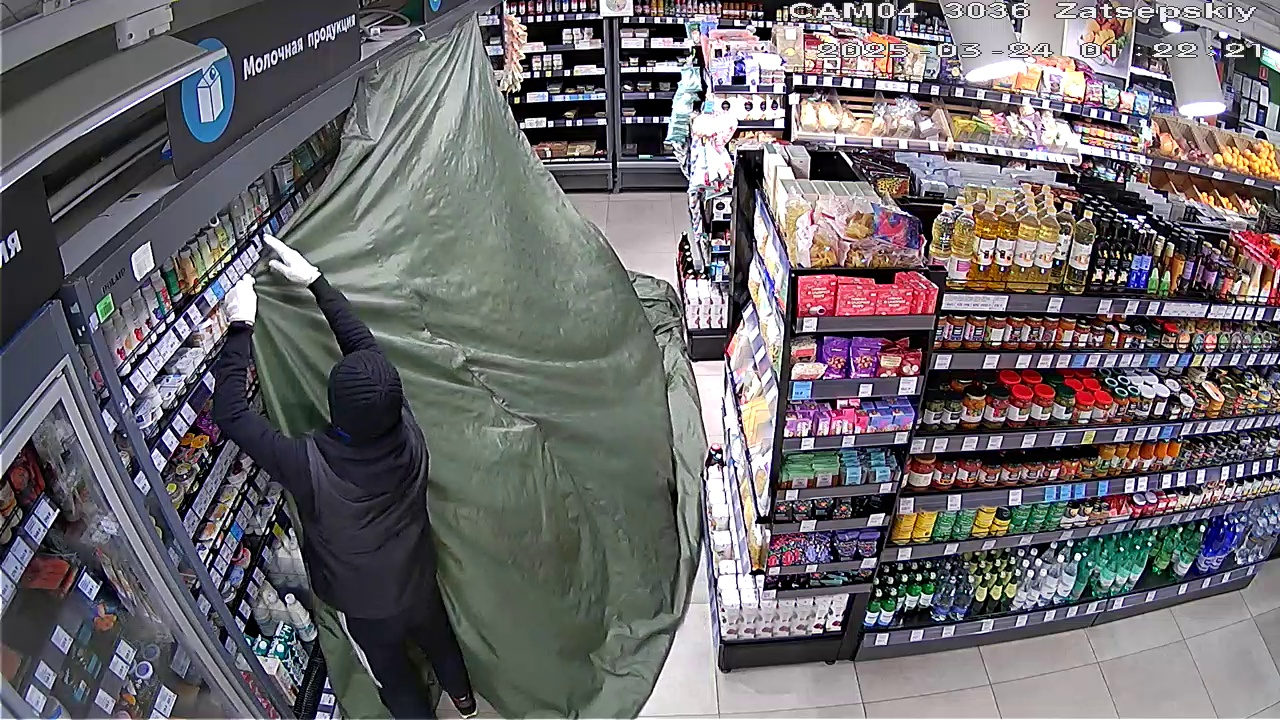Human: (214, 224, 470, 719)
dome: (256, 73, 703, 714)
